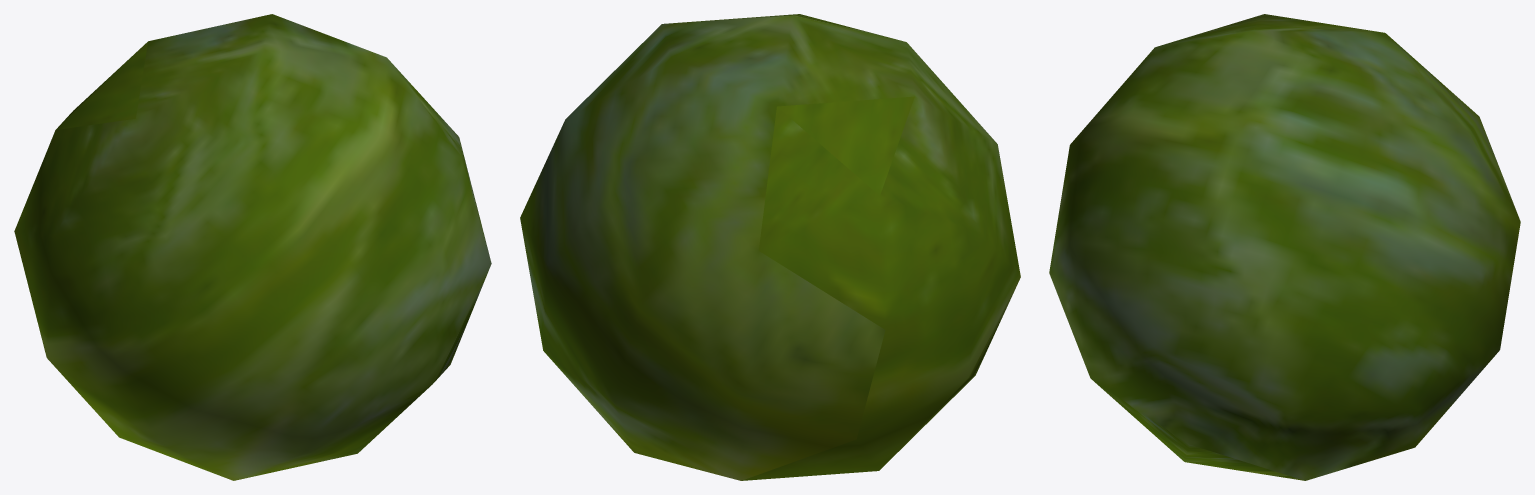
File: Sprout.gltf
3 renders of one model, left to right at view 1: azimuth 30°, elevation 25°; view 2: azimuth 150°, elevation 25°; view 3: azimuth 270°, elevation 25°, orthographic. The views are drawn at different scales.
Parts seen in each view (by area): view 1: Sprout; view 2: Sprout; view 3: Sprout.
Part boxes in pixels (x1,y1,x2,y2): Sprout: (14,14,491,480); Sprout: (520,14,1020,480); Sprout: (1049,14,1520,480).
Size of what is drawn, in the model's own units: 0.2 by 0.2 by 0.2.
Materials: 1 (1 with a texture image).
